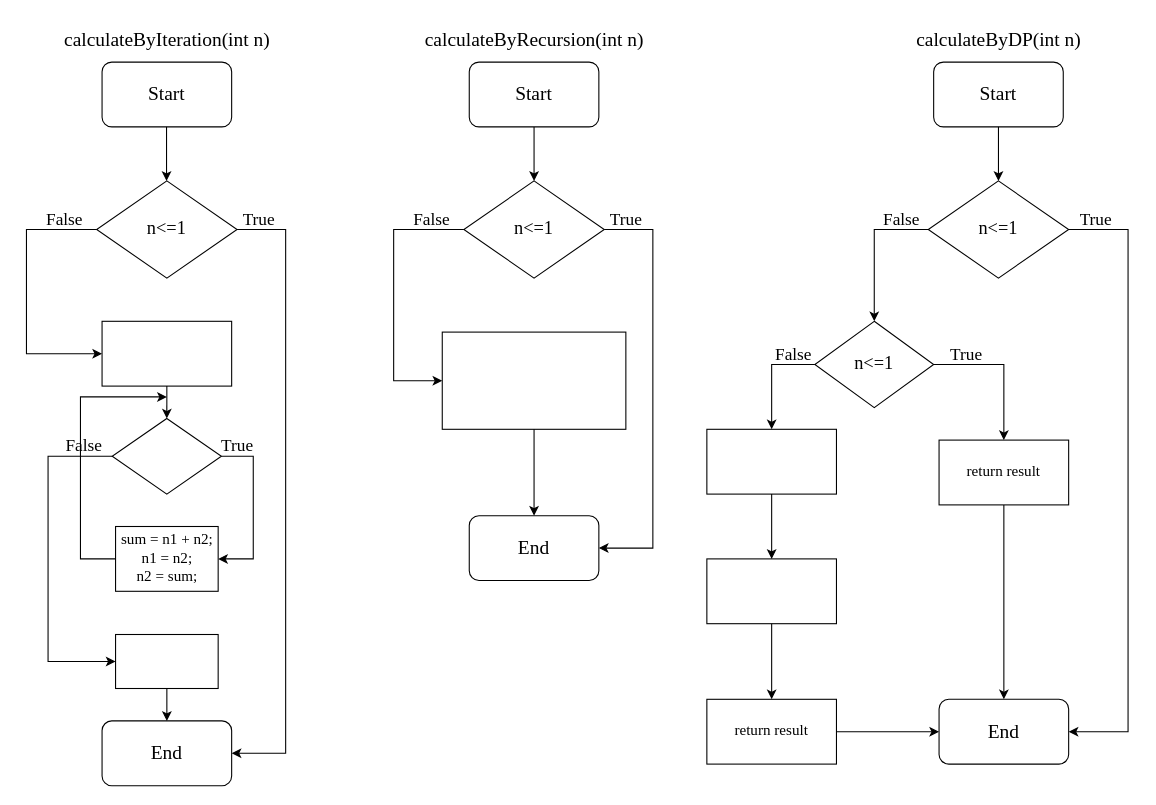
Some shapes in this 1156 by 805 pixel diagram are drawn without their labels. The shapes that lost their labels are listed below. From the top down, each one's box as (x1, y1, x2, y2) in pixels, then its label:
(101, 320, 232, 386): Initializing: n1=0; n2=1; sum=0 ; i=2;
(441, 331, 626, 429): return calculateByRecursion(n - 1) + calculateByRecursion(n - 2);
(111, 417, 221, 494): i<=n
(706, 428, 836, 494): result = calculateByDP(n - 1) + calculateByDP(n - 2);
(706, 558, 836, 624): fibonacciMemo.put(n, result);
(114, 633, 218, 688): return sum
